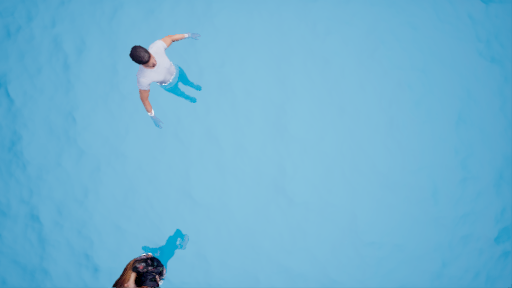person: (126, 32, 218, 132), (107, 231, 198, 288)
